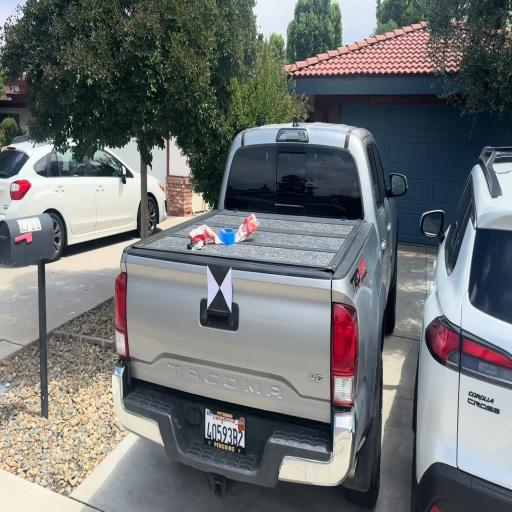target: (207, 264, 232, 312)
